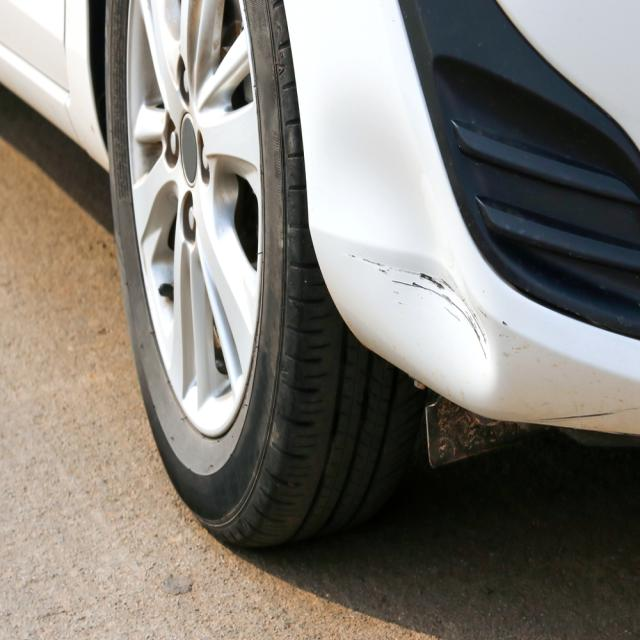dent: (304, 112, 494, 401)
scratch: (538, 406, 640, 423)
